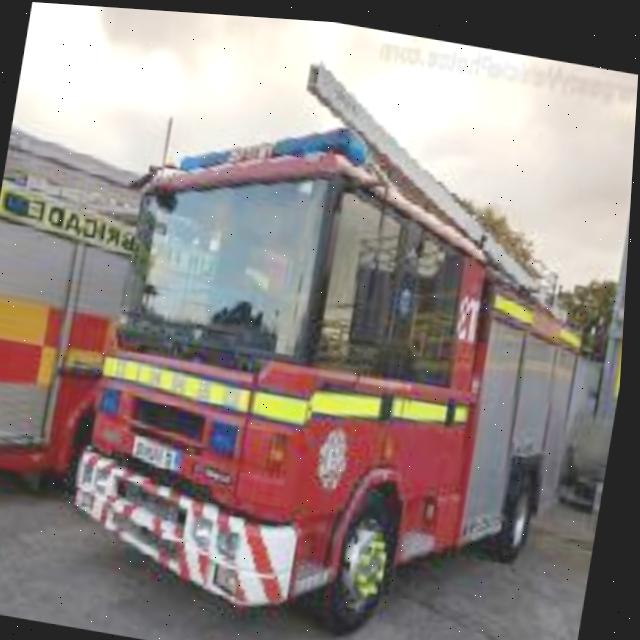emergency: (75, 102, 613, 640)
